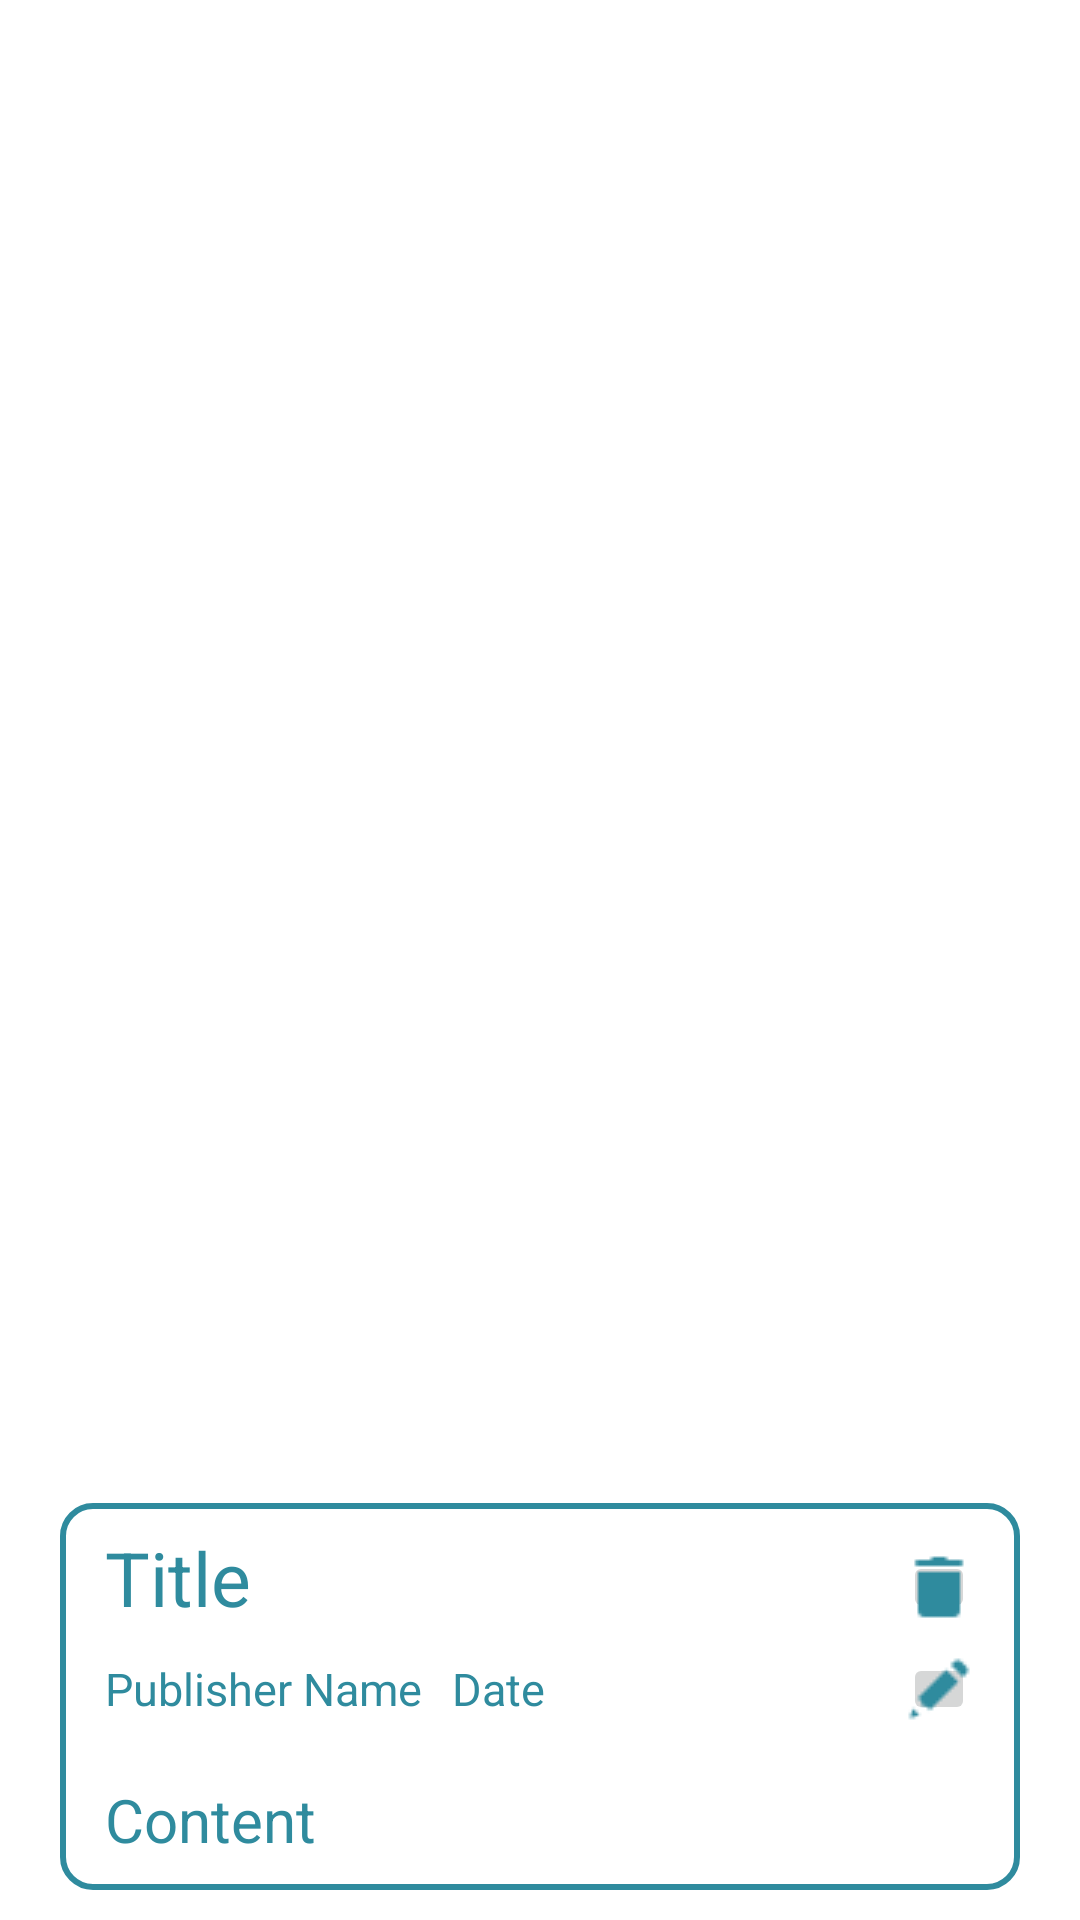

Screen size 1080*1920. Icon name, then its box in pixels as (x1, y1, x2, y2):
edit: (908, 1658, 970, 1720)
trash: (914, 1556, 964, 1618)
